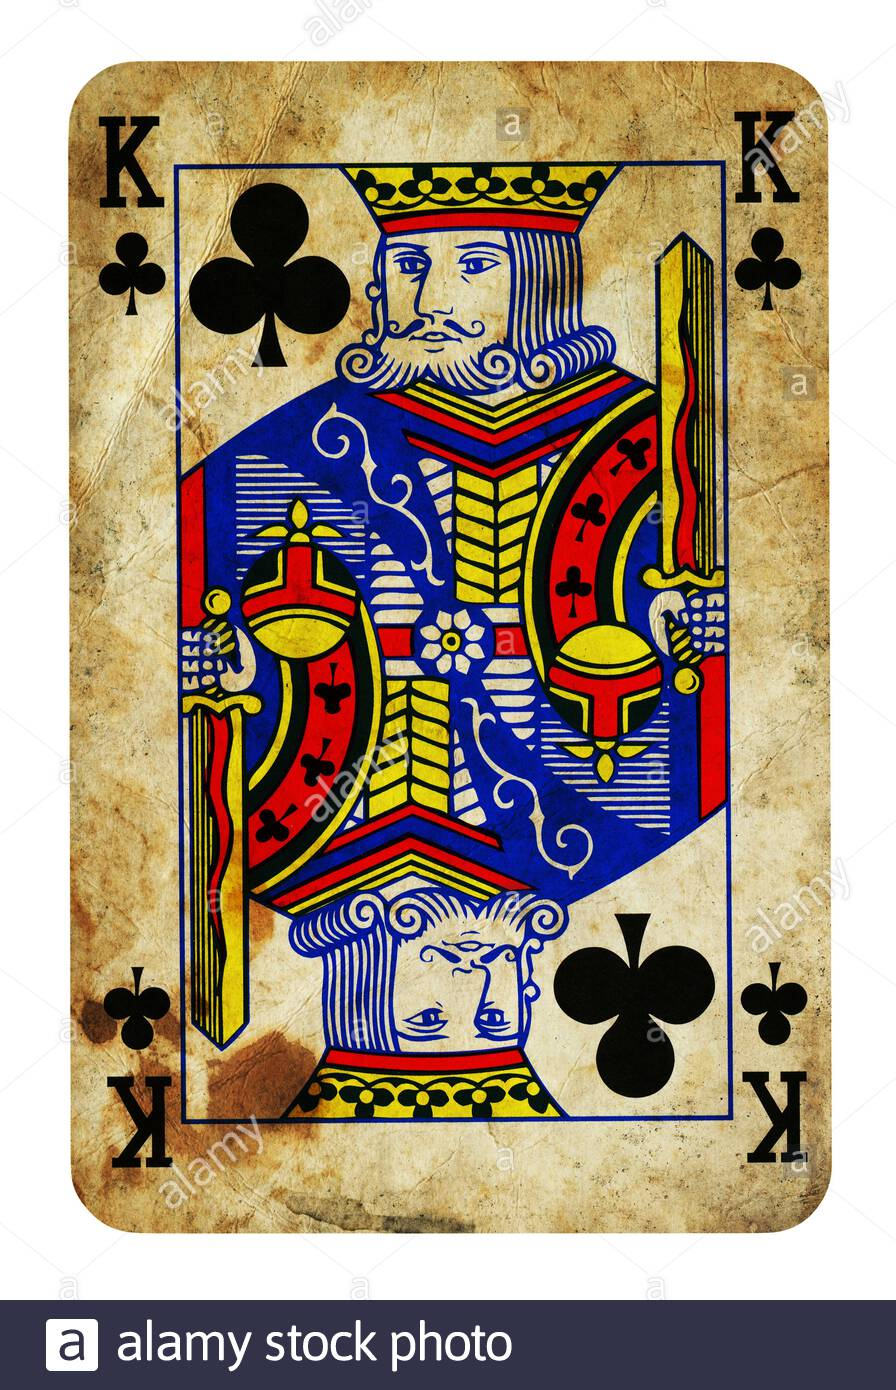king of clubs: (64, 58, 831, 1235)
